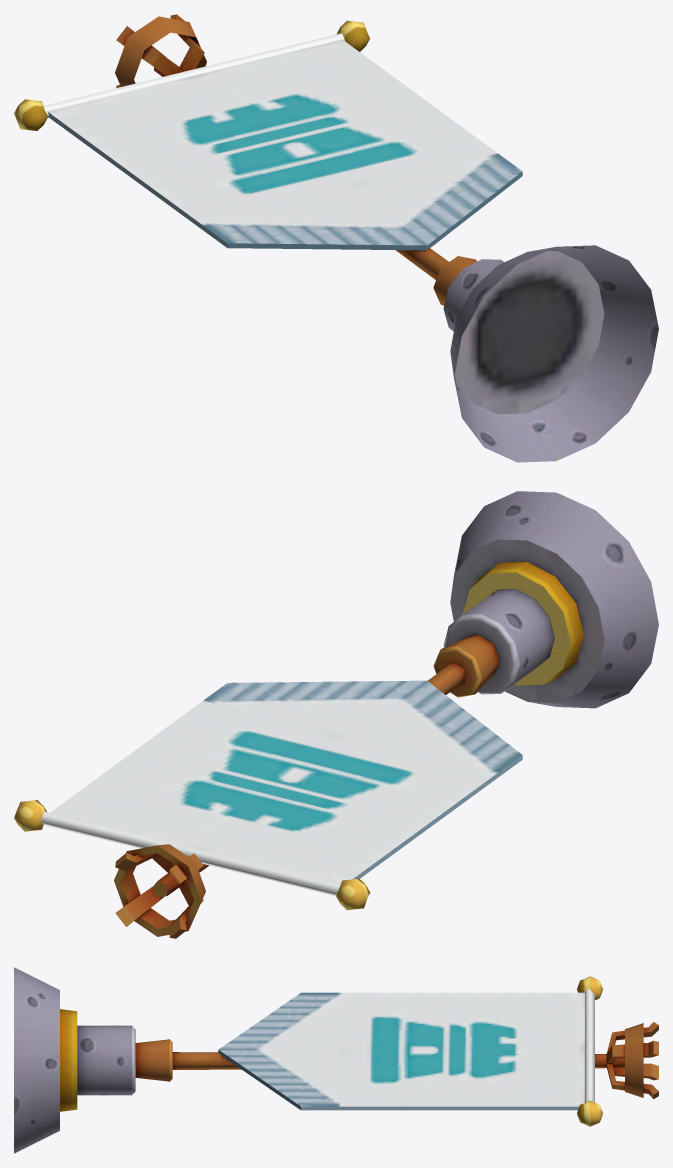
Rendered from TorchBannerCastle.fbx.
The picture shows the model from 3 angles, top to bottom: view 1: azimuth 30°, elevation 25°; view 2: azimuth 150°, elevation 25°; view 3: azimuth 270°, elevation 25°; orthographic projection. The views are drawn at different scales.
Visible parts, largest first — view 1: TorchBannerCastle; view 2: TorchBannerCastle; view 3: TorchBannerCastle.
Part boxes in pixels (x1,y1,x2,y2): TorchBannerCastle: (14,14,658,462); TorchBannerCastle: (14,491,658,938); TorchBannerCastle: (14,967,658,1153).
Size of the model in its own units: 127 by 74.13 by 256.
